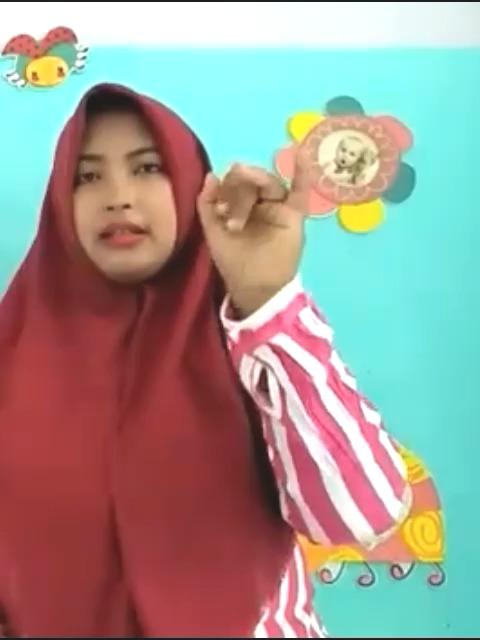Y: (190, 140, 316, 290)
